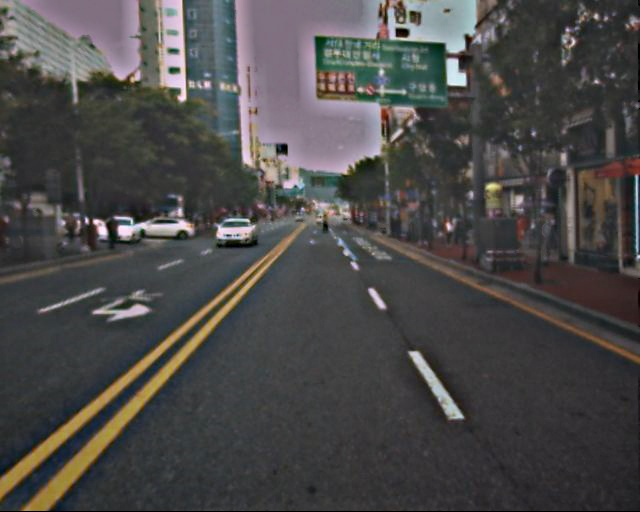person: (532, 213, 554, 267), (385, 216, 416, 244), (64, 209, 80, 247), (451, 213, 467, 251), (106, 217, 120, 250), (442, 216, 454, 246), (321, 213, 330, 235)
